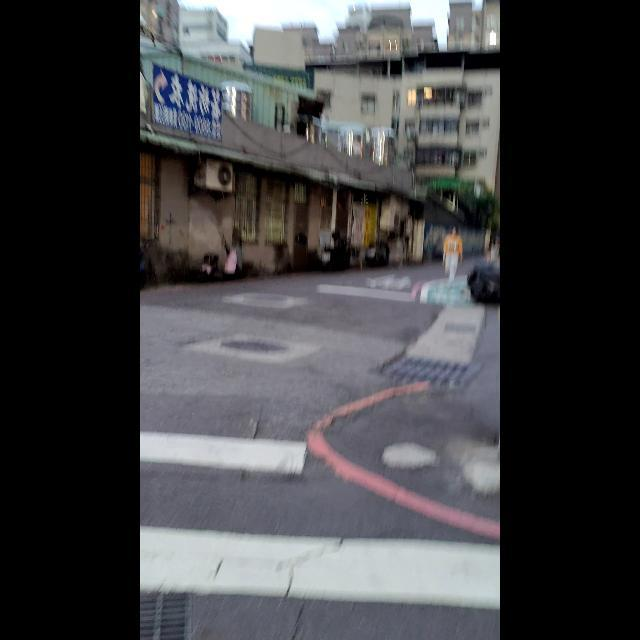sidewalk: (140, 430, 500, 640)
